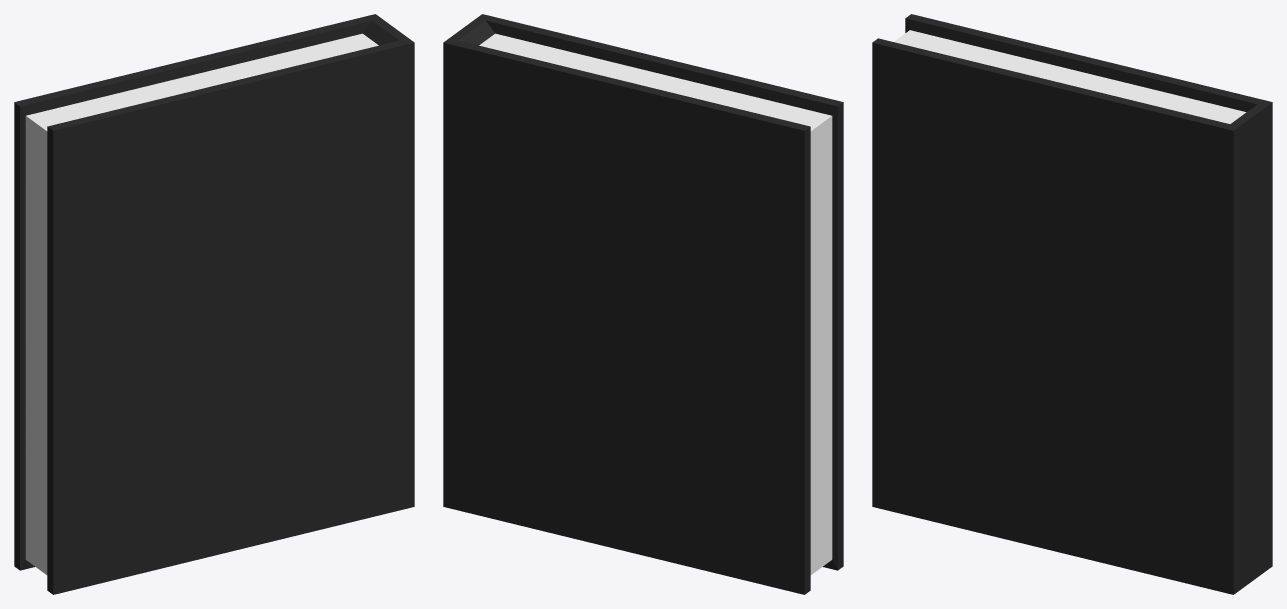
Rendered from Book_3.fbx.
3 views of the same model, side by side, from view 1: azimuth 30°, elevation 25°; view 2: azimuth 150°, elevation 25°; view 3: azimuth 330°, elevation 25° (orthographic).
Visible parts, largest first — view 1: Book_3; view 2: Book_3; view 3: Book_3.
Boxes of the visible parts, x1,y1,x2,y2 form: Book_3: [14, 14, 414, 594]; Book_3: [443, 14, 843, 594]; Book_3: [872, 14, 1272, 594].
Bounding box in the file's own units: 0.1719 × 0.211 × 0.0323.
